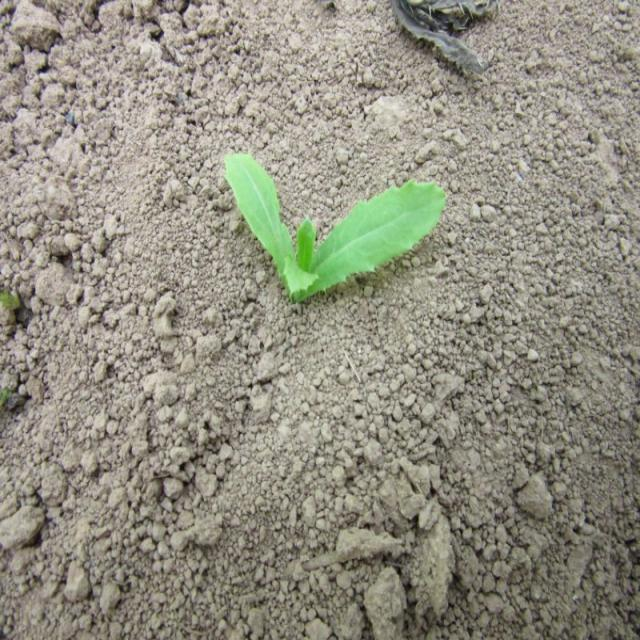field_thistle: (188, 134, 452, 343)
